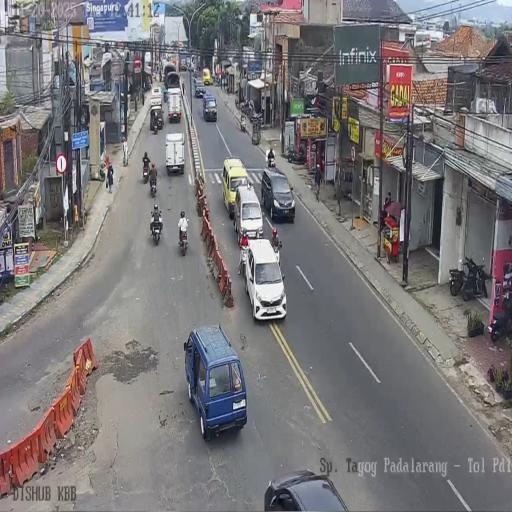car: (184, 324, 249, 440), (243, 240, 287, 322), (263, 469, 351, 510), (261, 168, 295, 222), (222, 156, 249, 219), (202, 92, 217, 122), (150, 86, 163, 109), (194, 80, 205, 98), (202, 68, 212, 85), (186, 62, 194, 72)
motorcycle: (449, 252, 487, 302), (489, 290, 512, 342), (285, 142, 306, 165), (150, 212, 162, 245), (178, 223, 189, 255), (149, 174, 158, 197), (142, 162, 149, 184), (267, 154, 276, 168), (152, 115, 158, 135), (240, 114, 246, 132), (163, 87, 168, 102)
truck: (165, 132, 185, 177), (167, 88, 182, 124), (179, 54, 187, 72), (170, 54, 177, 69)
